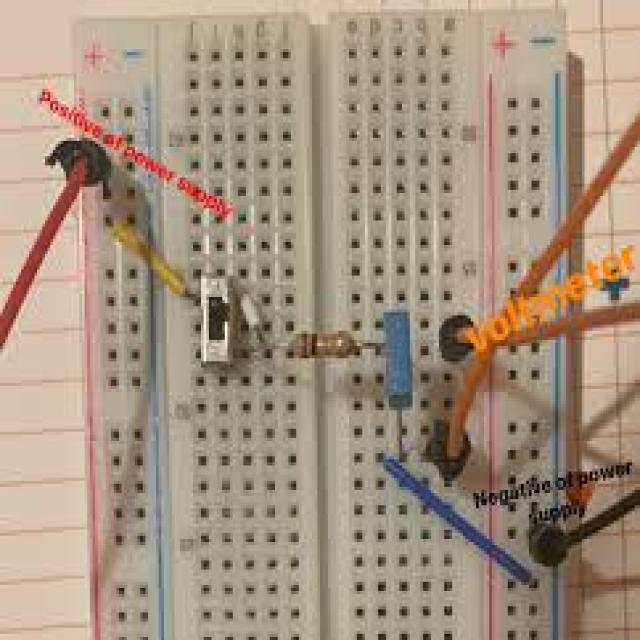capacitor: (290, 331, 360, 361)
